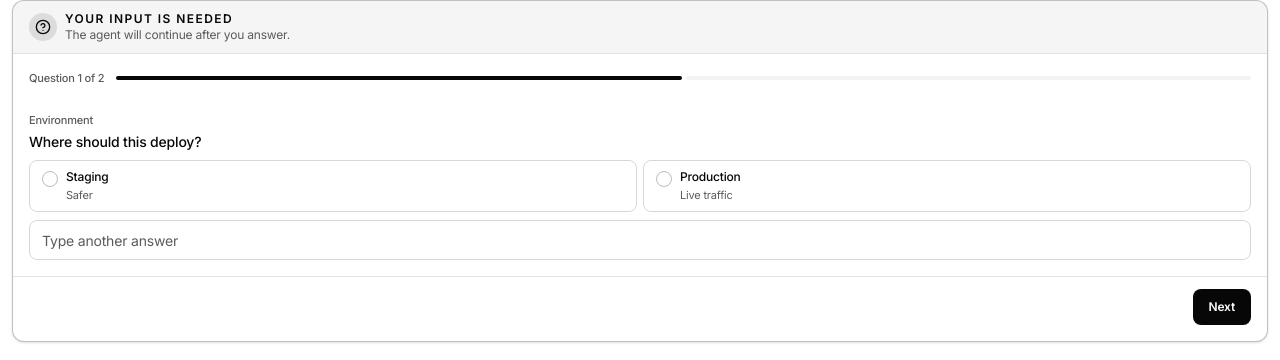
Test: AskUserQuestionCard › advances past an unanswered question and blocks only the final submit
Submit the form
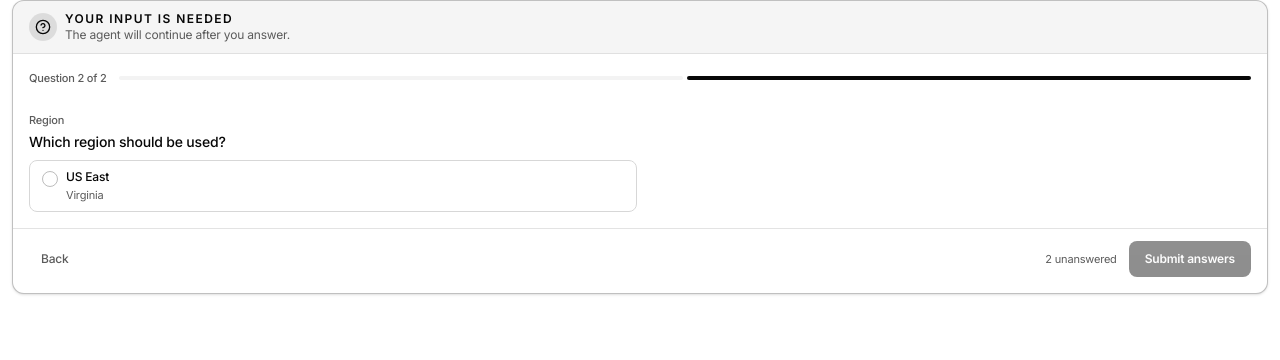
Check: the text "Which region should be used?" is shown, box [29,133,226,150]
Check: the submit button is disabled, box [1129,241,1251,277]
Check: the text with test id "question-unanswered" shows "2", box [1045,252,1117,266]
Click the button with test id "question-option": (88, 176) [29,160,637,212]
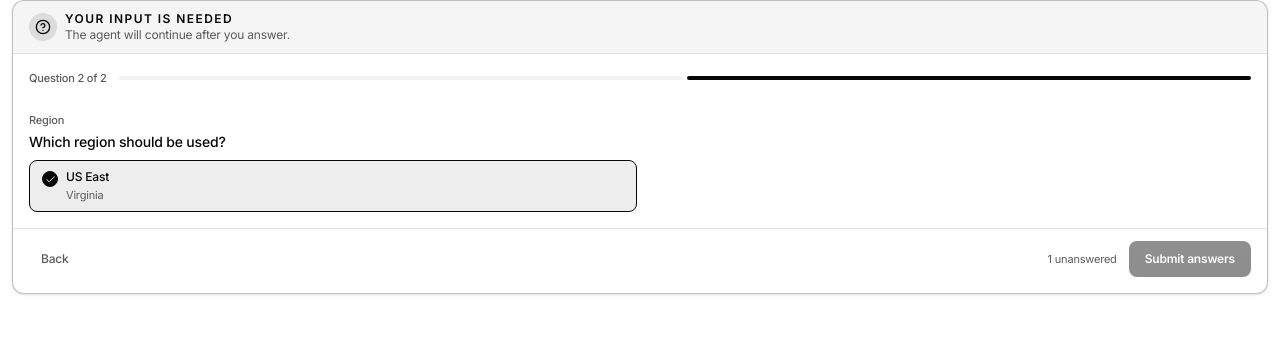
Check: the submit button is disabled, box [1129,241,1251,277]
Check: the text with test id "question-unanswered" shows "1", box [1048,252,1117,266]
